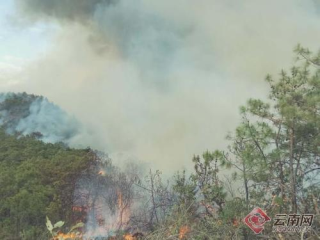fire: (49, 187, 200, 240)
smoke: (28, 14, 271, 158)
